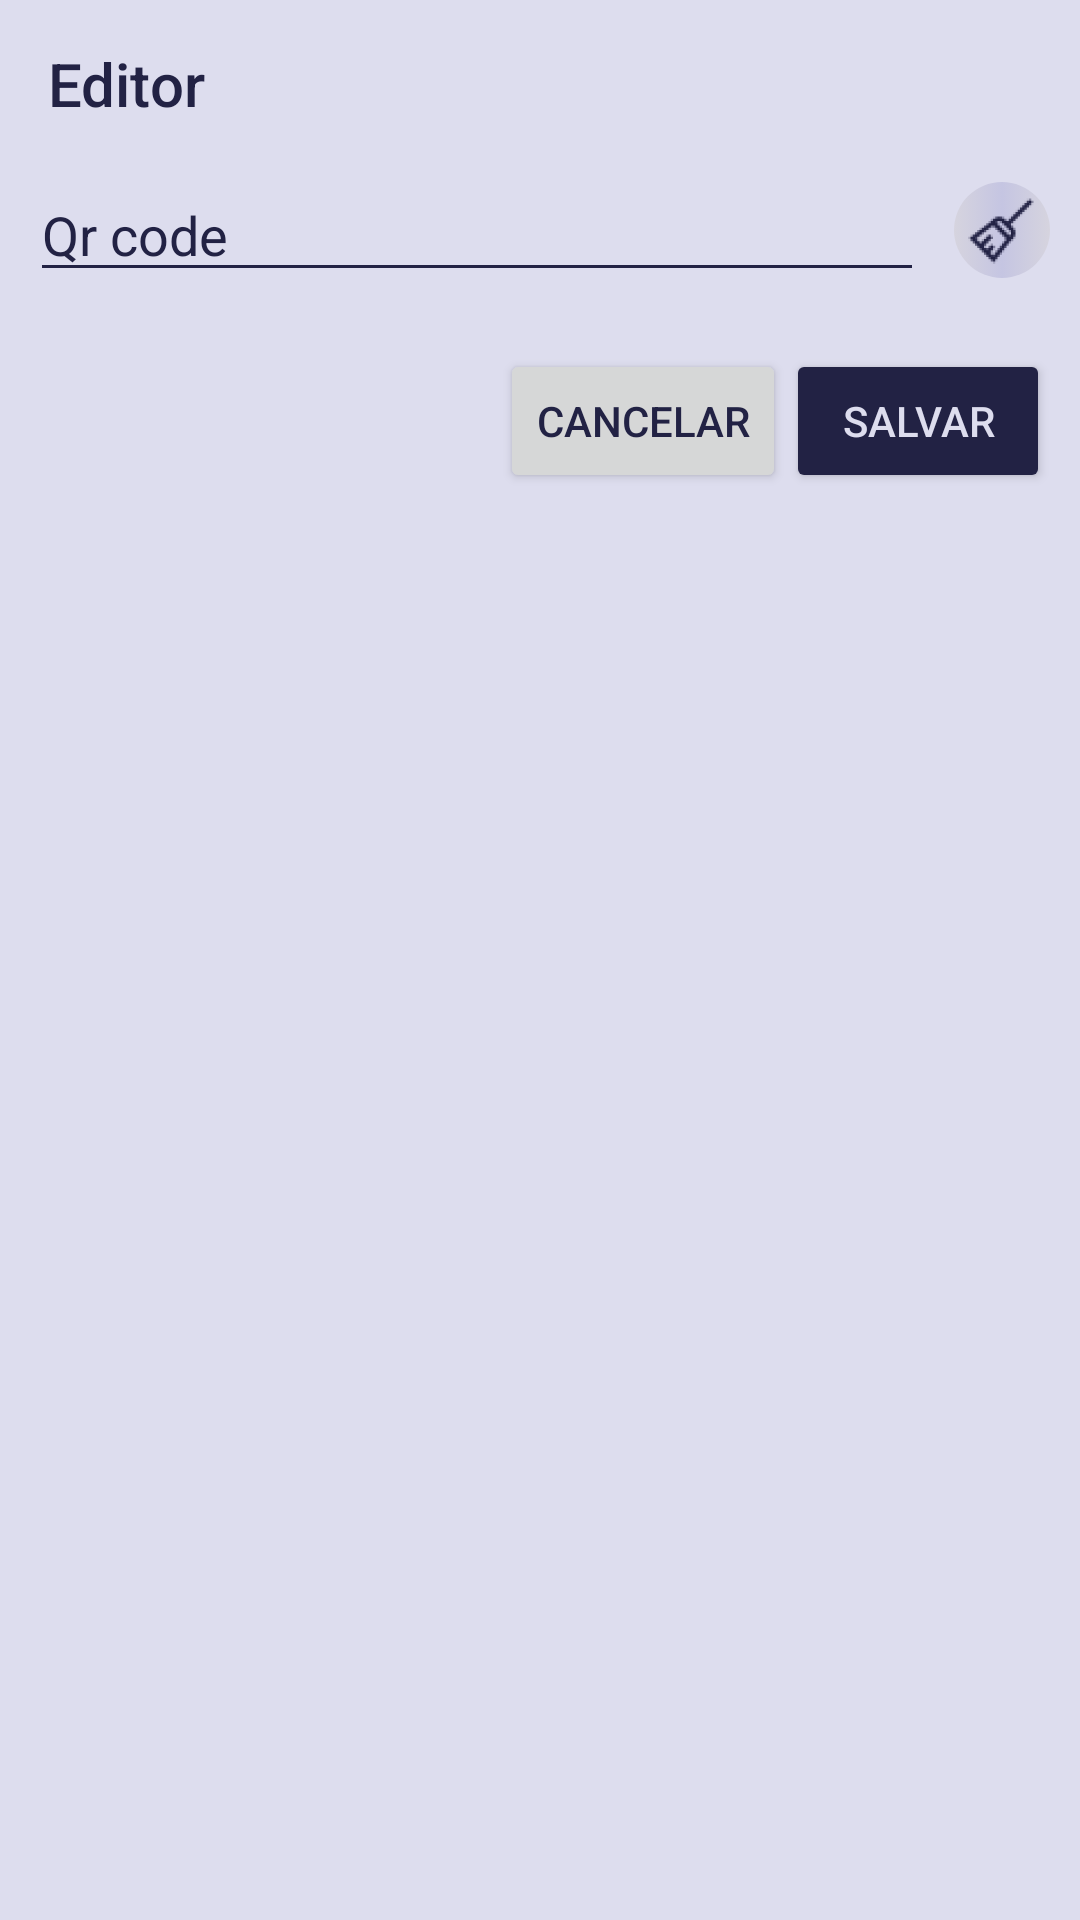

Icons on this 1080w x 1920h Android screen, each with its box as box=[x1, y1, x2, y2]:
clear: box=[954, 182, 1050, 278]
